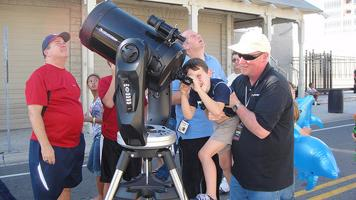person: (179, 58, 243, 199)
